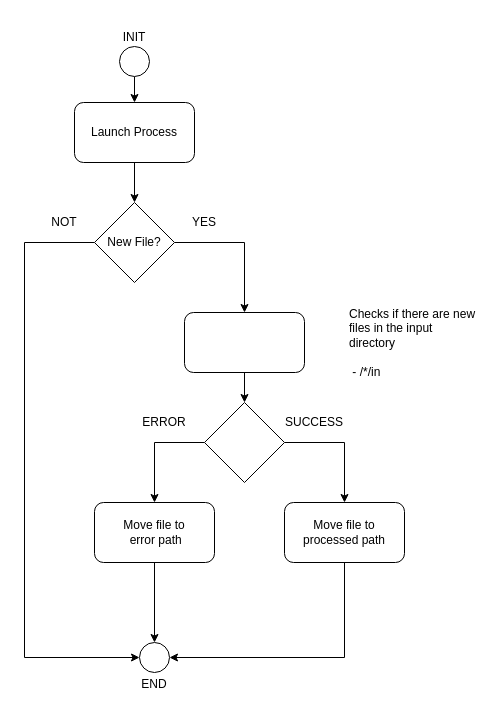
The diagram is 502 pixels wide and 721 high, and some of its shapes have lost their labels. Here are the shapes that lost their labels. From the top down, the centre of each, then its label:
At [244,342]: "Send To IoT HUB".
At [244,442]: "OK ?".
